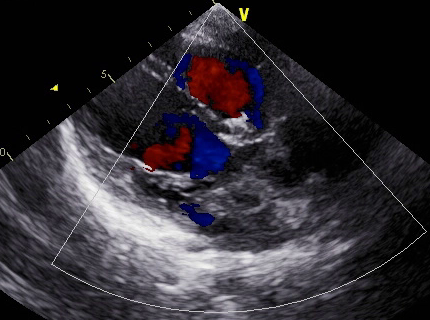AR: (141, 131, 206, 176)
